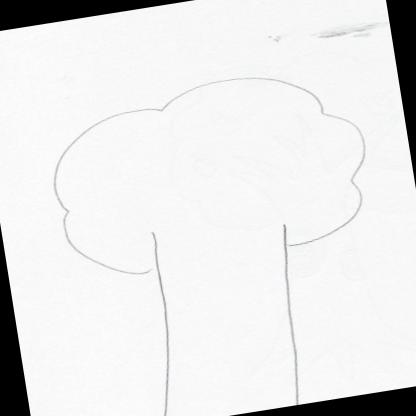crown_cloud: (40, 60, 378, 286)
trunk_straight: (146, 260, 306, 402)
